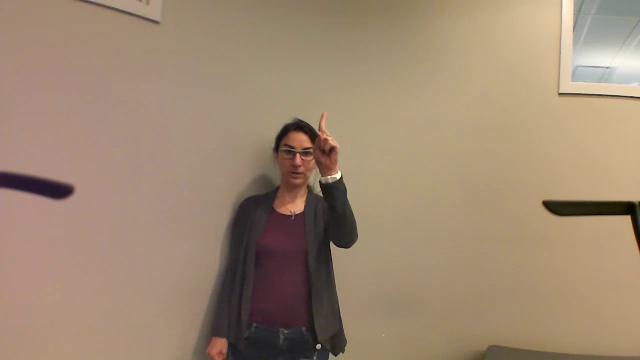up: (311, 108, 343, 175)
